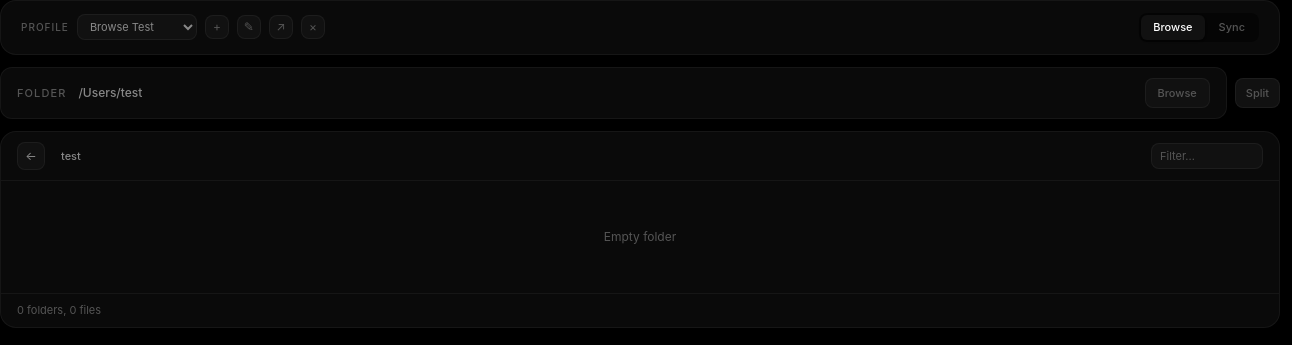
FileManager › deselects profile and shows browse explorer
Check: the text "/Users/test" is shown, box [78,85,142,100]
// Select "None" option
Select "None" in the dropdown at (137, 27), box [77,14,197,40]
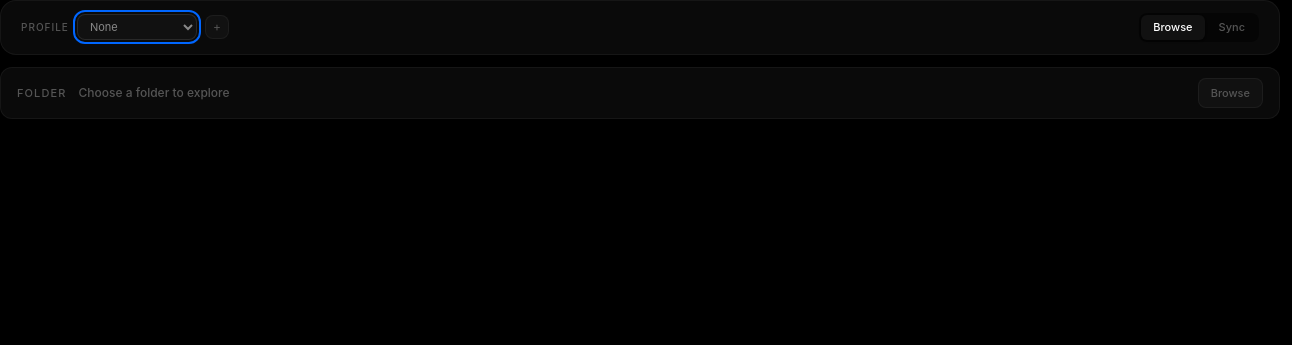
Check: the text "Choose a folder to explore" is shown, box [78,85,230,100]
